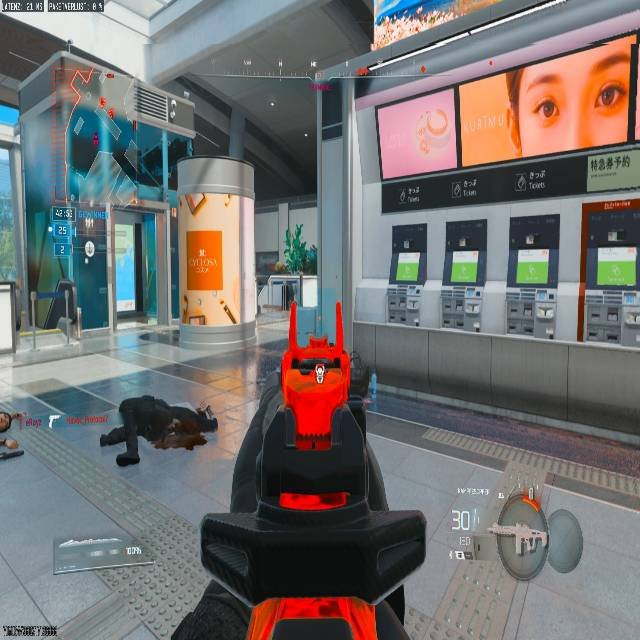head: (195, 403, 217, 432)
player: (45, 276, 83, 347)
